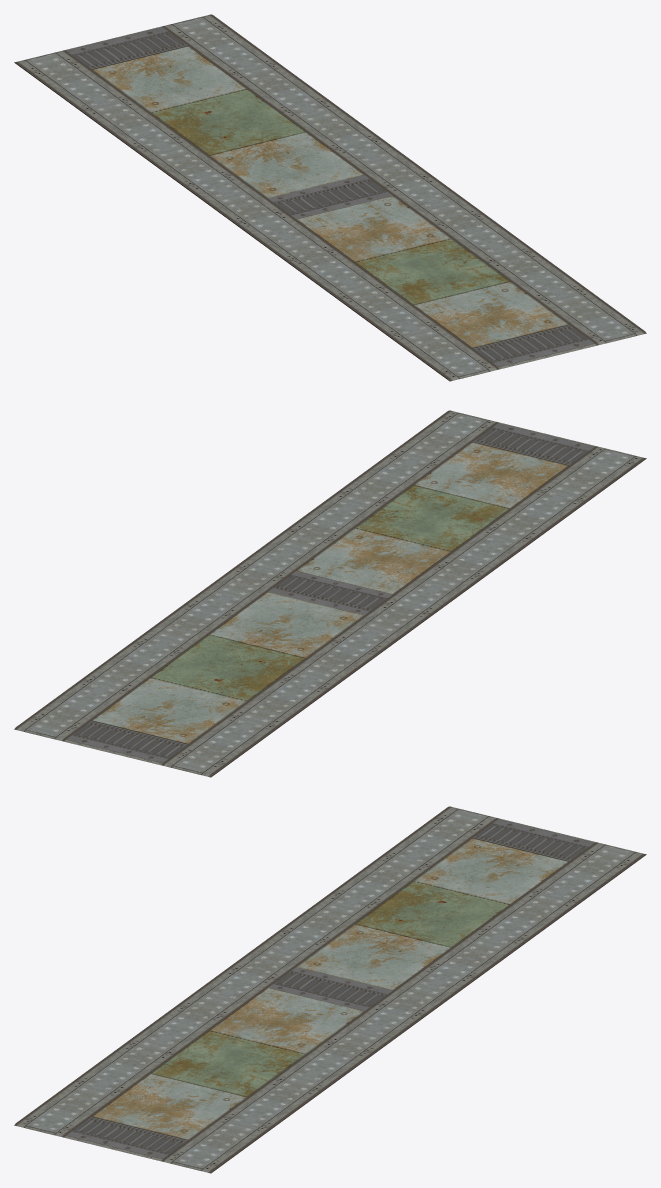
The model's file is Ob_RoadBump1_RC.fbx.
3 views of the same model, one above another, from view 1: azimuth 30°, elevation 25°; view 2: azimuth 150°, elevation 25°; view 3: azimuth 330°, elevation 25° (orthographic).
Parts seen in each view (by area): view 1: Ob_RoadBump1_RC; view 2: Ob_RoadBump1_RC; view 3: Ob_RoadBump1_RC.
Boxes of the visible parts, x1,y1,x2,y2 form: Ob_RoadBump1_RC: (14,14,646,381); Ob_RoadBump1_RC: (14,410,646,777); Ob_RoadBump1_RC: (14,806,646,1173).
Bounding box in the file's own units: 522 × 2.16 × 2000.
